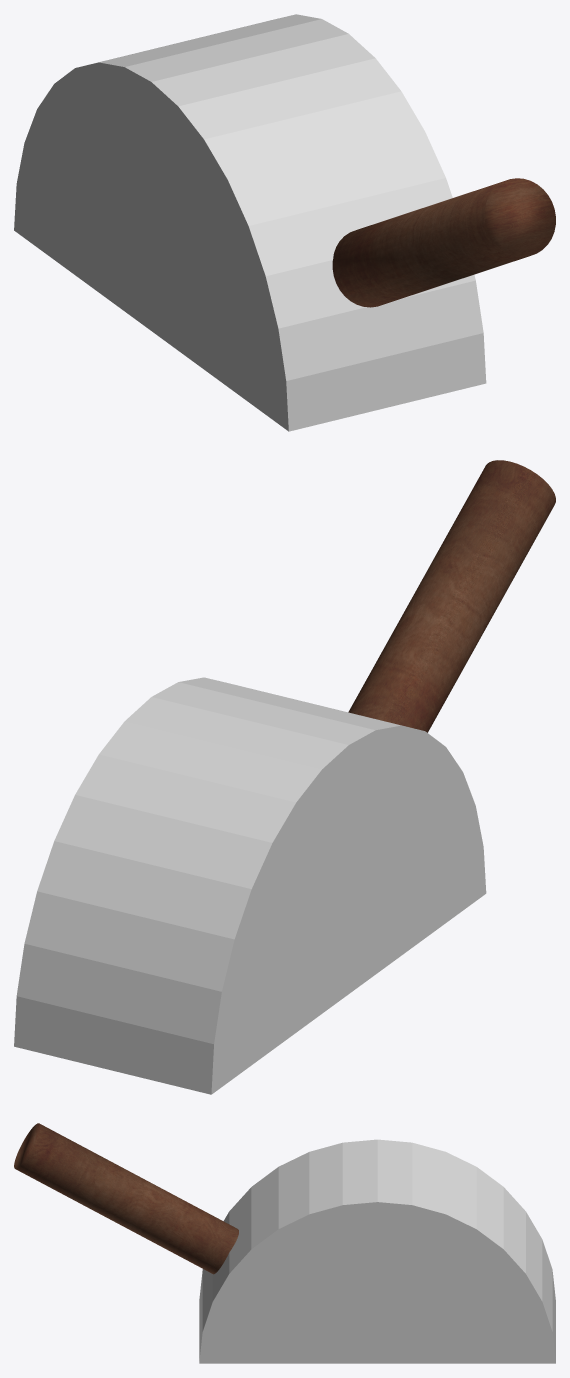
The model's file is Lever.fbx.
3 views of the same model, one above another, from view 1: azimuth 30°, elevation 25°; view 2: azimuth 150°, elevation 25°; view 3: azimuth 270°, elevation 25° (orthographic). The views are drawn at different scales.
Visible parts, largest first — view 1: Cylinder, Cylinder.001; view 2: Cylinder, Cylinder.001; view 3: Cylinder, Cylinder.001.
Part boxes in pixels (x1,y1,x2,y2): Cylinder: [14, 14, 486, 431]; Cylinder.001: [332, 178, 555, 307]; Cylinder: [14, 677, 486, 1094]; Cylinder.001: [348, 460, 555, 732]; Cylinder: [199, 1139, 555, 1363]; Cylinder.001: [14, 1123, 238, 1274].
Bounding box in the file's own units: 82.95 × 137 × 304.
